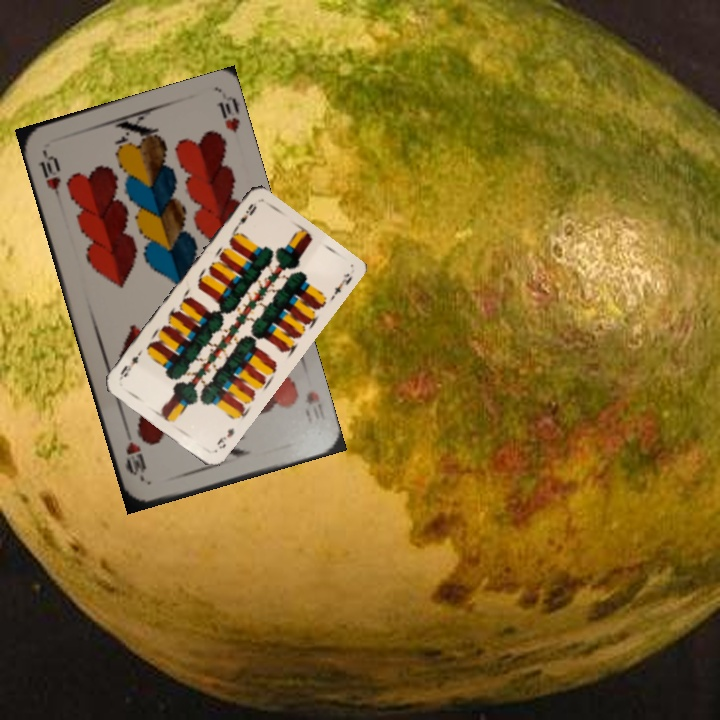E9: (230, 198, 259, 233), (213, 424, 237, 452)
H10: (35, 147, 65, 205), (300, 387, 323, 426)
